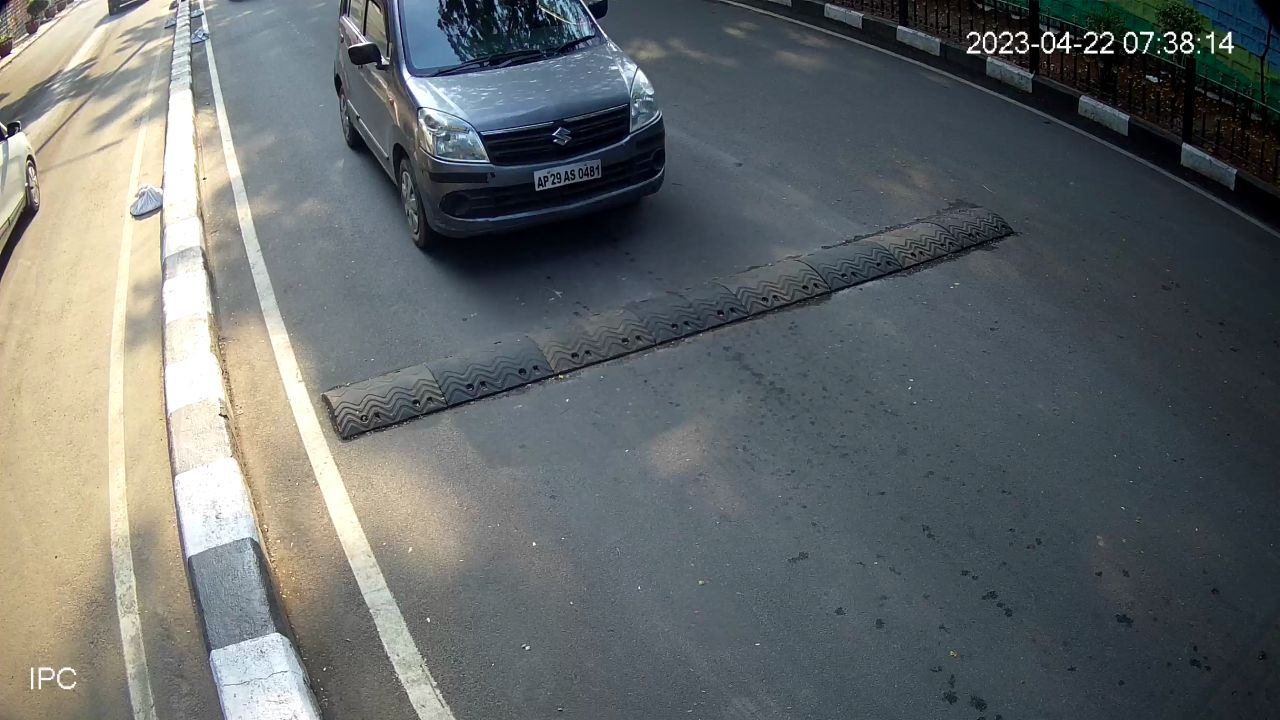license_plate: (530, 156, 605, 195)
